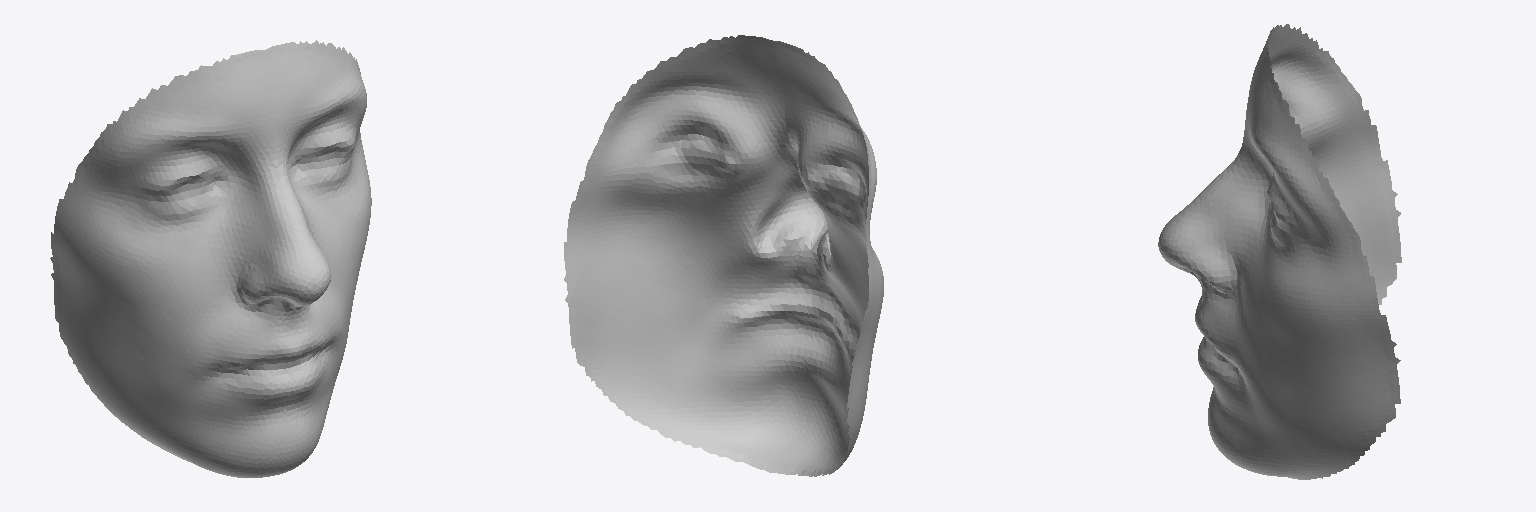
The model's file is SIMPOP_10.obj.
3 renders of one model, left to right at view 1: azimuth 30°, elevation 25°; view 2: azimuth 150°, elevation 25°; view 3: azimuth 270°, elevation 25°, orthographic.
Parts seen in each view (by area): view 1: SIMPOP_10; view 2: SIMPOP_10; view 3: SIMPOP_10.
Boxes of the visible parts, x1,y1,x2,y2 form: SIMPOP_10: [50, 40, 371, 477]; SIMPOP_10: [564, 35, 883, 476]; SIMPOP_10: [1158, 24, 1401, 479].
Size of the model in its own units: 119 by 159 by 83.09.